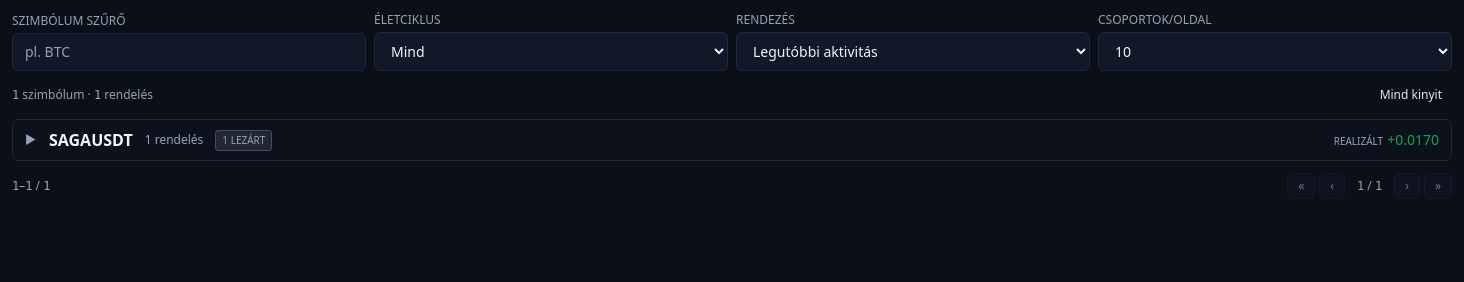
<OrdersTable /> (grouped) › expands a group on click and shows inner table rows
This screenshot has width=1464, height=282.
Click the button "▶ SAGAUSDT 1 rendelés 1 lezárt Realizált+0.0170".
click(91, 140)  # box [13,120,1451,160]
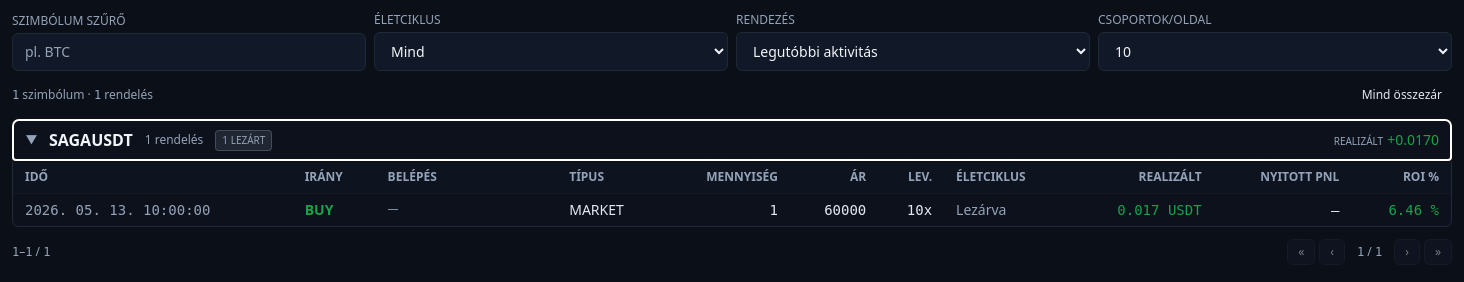
Now the button "▶ SAGAUSDT 1 rendelés 1 lezárt Realizált+0.0170" is expanded, box [13,120,1451,160]
Now the text "6.46 %" is shown, box [1351,194,1451,226]
Now the text "Lezárva" is shown, box [944,194,1069,226]
